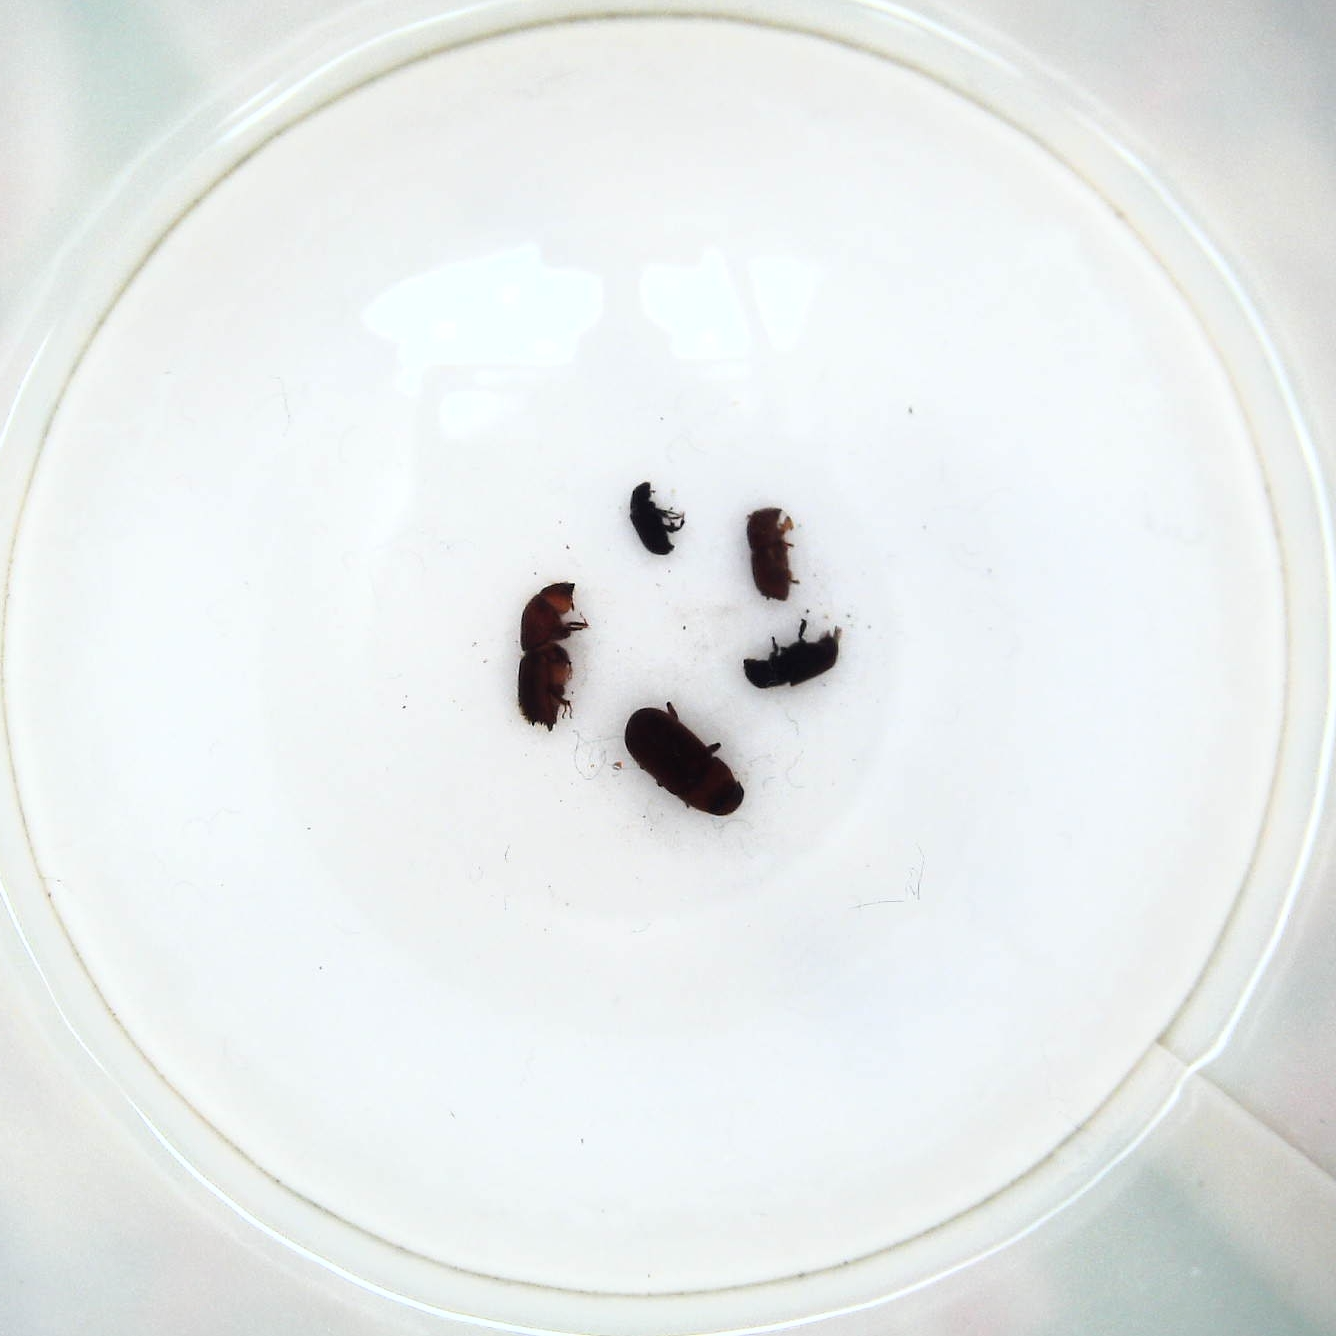Boerner: (509, 579, 590, 735)
Leconte: (619, 696, 748, 823)
armandi: (739, 618, 845, 691)
coleoptera: (624, 473, 692, 559)
linnaeus: (741, 495, 803, 606)
